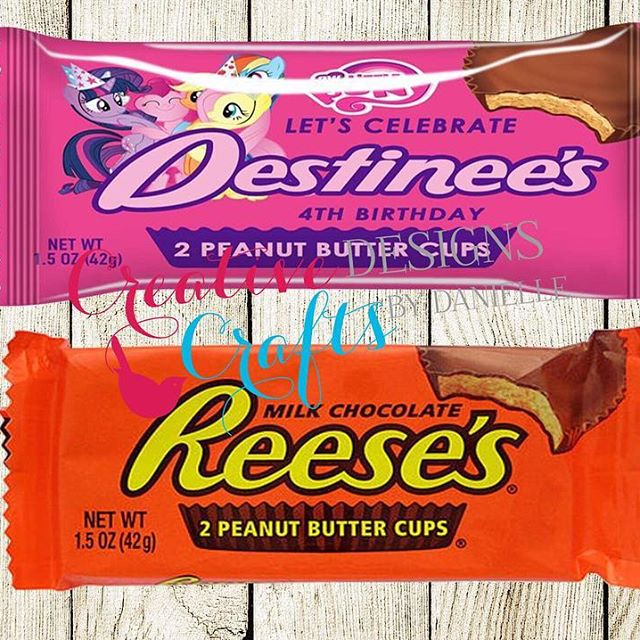reese: (7, 337, 638, 589)
